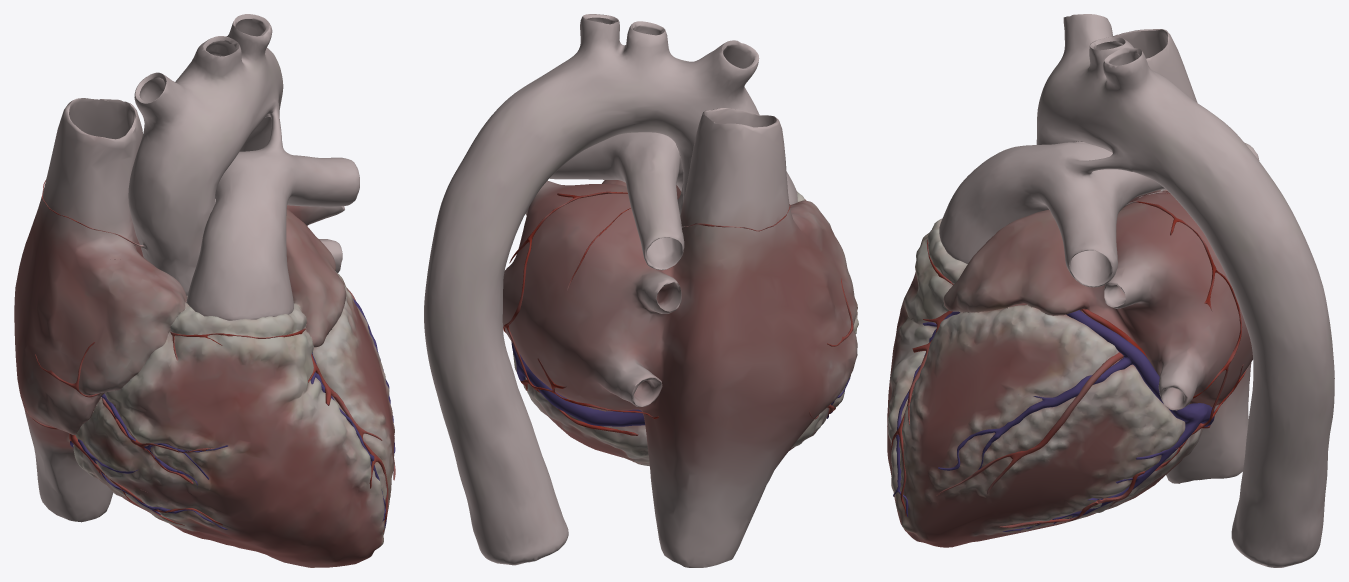
Rendered from normal-neonatal-heart.glb.
3 views of the same model, side by side, from view 1: azimuth 30°, elevation 25°; view 2: azimuth 150°, elevation 25°; view 3: azimuth 270°, elevation 25° (orthographic). The views are drawn at different scales.
Parts seen in each view (by area): view 1: MM634_BP51951_FMA4706_Coronary_sinus821_MM634_BP51951_FMA470, Extract3_1, Extract1; view 2: MM634_BP51951_FMA4706_Coronary_sinus821_MM634_BP51951_FMA470, Extract3_1, Extract1; view 3: MM634_BP51951_FMA4706_Coronary_sinus821_MM634_BP51951_FMA470, Extract3_1, Extract1.
Part boxes in pixels (left/top/right/bottom): MM634_BP51951_FMA4706_Coronary_sinus821_MM634_BP51951_FMA470: left=14, top=98, right=394, bottom=567; Extract3_1: left=21, top=14, right=395, bottom=531; Extract1: left=70, top=298, right=395, bottom=529; MM634_BP51951_FMA4706_Coronary_sinus821_MM634_BP51951_FMA470: left=502, top=108, right=858, bottom=567; Extract3_1: left=424, top=14, right=853, bottom=565; Extract1: left=511, top=342, right=850, bottom=426; MM634_BP51951_FMA4706_Coronary_sinus821_MM634_BP51951_FMA470: left=887, top=29, right=1252, bottom=547; Extract3_1: left=891, top=14, right=1334, bottom=567; Extract1: left=893, top=310, right=1214, bottom=531.
Bounding box in the file's own units: 66.13 × 89.81 × 73.29.
